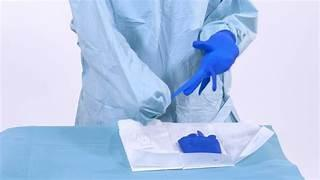Glove: (172, 30, 238, 97), (178, 131, 220, 152)
